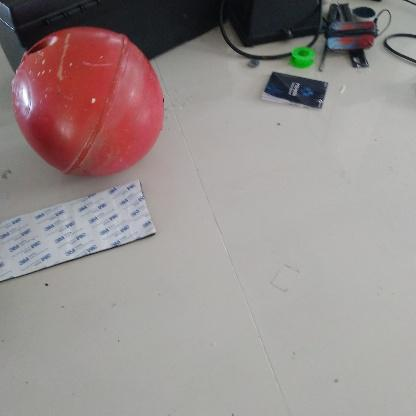red_buoy: (11, 24, 165, 181)
